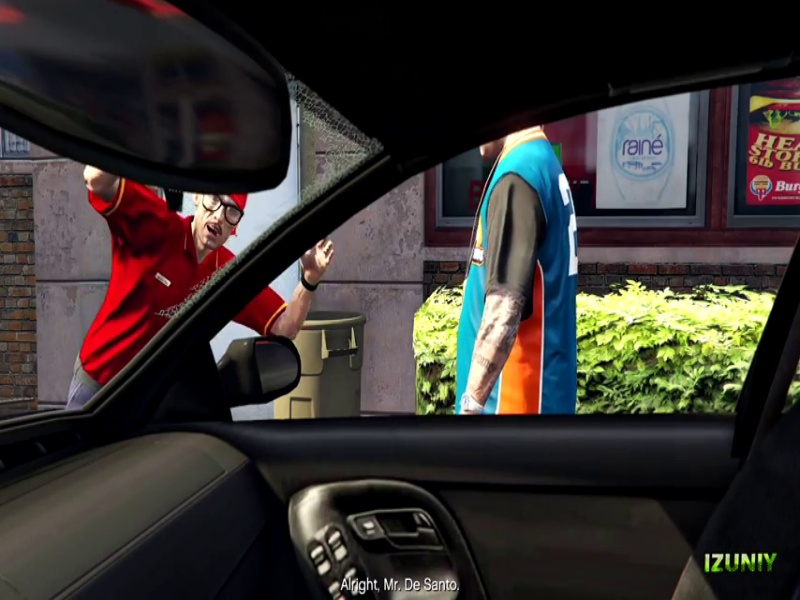human: (77, 159, 261, 398)
